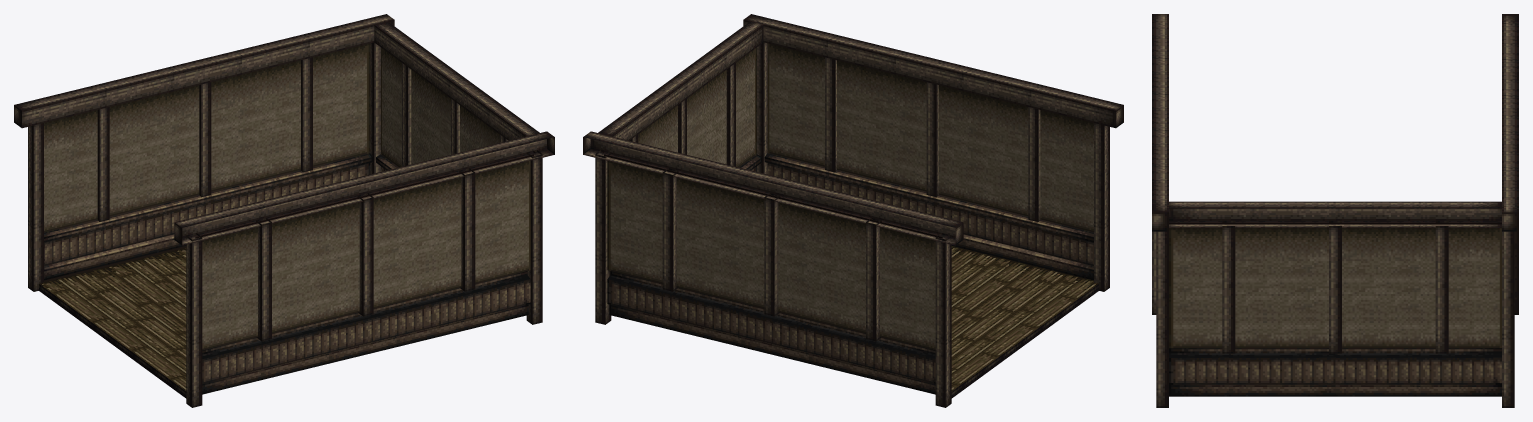
Rendered from EnvBdgMD_WoodHouse_A_Indoor_House_B.FBX.
3 views of the same model, side by side, from view 1: azimuth 30°, elevation 25°; view 2: azimuth 150°, elevation 25°; view 3: azimuth 270°, elevation 25° (orthographic). The views are drawn at different scales.
Parts seen in each view (by area): view 1: EnvBdgMD_WoodHouse_A_Indoor_House_B; view 2: EnvBdgMD_WoodHouse_A_Indoor_House_B; view 3: EnvBdgMD_WoodHouse_A_Indoor_House_B.
Part boxes in pixels (x1=…): EnvBdgMD_WoodHouse_A_Indoor_House_B: x1=14, y1=14, x2=554, y2=407; EnvBdgMD_WoodHouse_A_Indoor_House_B: x1=583, y1=14, x2=1123, y2=407; EnvBdgMD_WoodHouse_A_Indoor_House_B: x1=1152, y1=14, x2=1518, y2=407.
Size of the model in its own units: 1100 by 520 by 860.
1 material, 1 textured.
